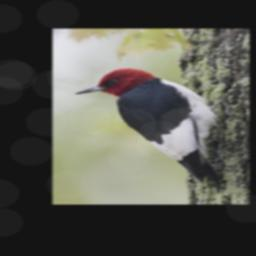Woodpecker: (67, 66, 234, 191)
